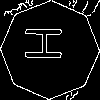H: (25, 25, 72, 62)
